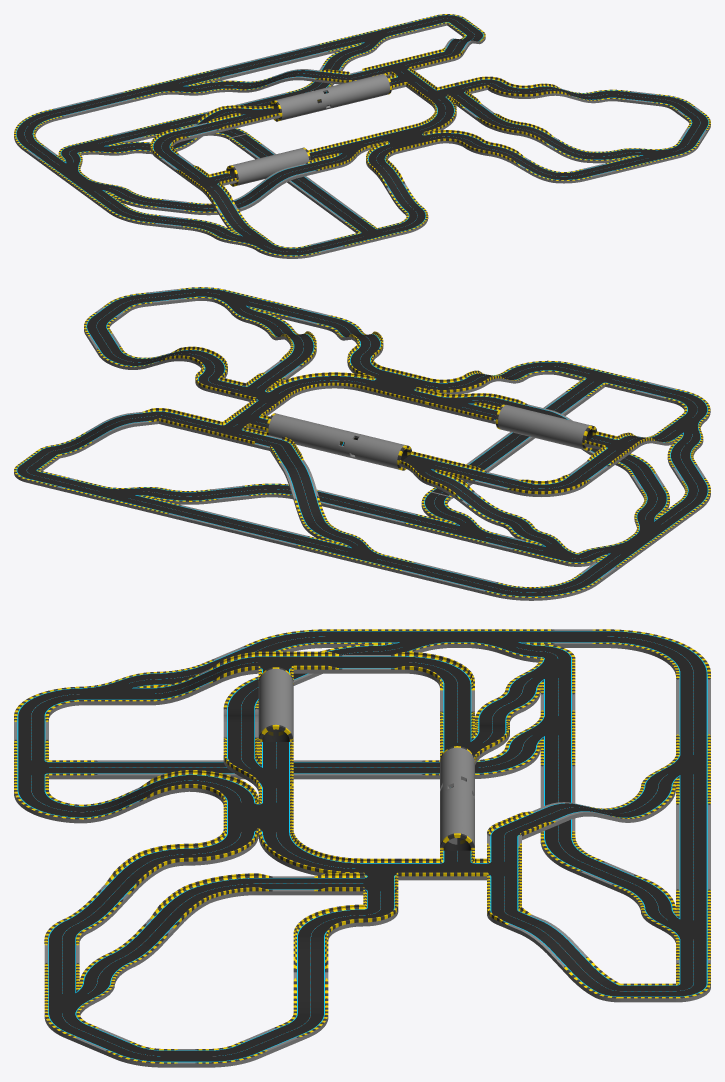
The model's file is GCU Track w Pipes Modular Shallow Bump.fbx.
3 views of the same model, one above another, from view 1: azimuth 30°, elevation 25°; view 2: azimuth 150°, elevation 25°; view 3: azimuth 270°, elevation 25° (orthographic). The views are drawn at different scales.
Parts seen in each view (by area): view 1: Wide Right Turn.026, Side Right Splt.007, Wide Right Turn.033, Side Right Splt.010, Side Right Splt.008, Side Left Splt.009, Side Right Splt.011, Side Left Splt.011, Side Left Splt.008, Side Right Splt.009, Right Turn.022, Side Left Splt.010 (+22 smaller); view 2: Wide Right Turn.026, Wide Right Turn.033, Side Right Splt.007, Side Left Splt.011, Side Right Splt.012, Side Right Splt.008, Side Right Splt.010, Side Right Splt.011, Side Left Splt.008, Side Left Splt.010, Side Right Splt.009, Side Left Splt.009 (+30 smaller); view 3: Side Right Splt.007, Wide Right Turn.026, Wide Right Turn.033, Side Left Splt.009, Side Right Splt.011, Side Left Splt.011, Side Left Splt.010, Side Left Splt.008, Side Right Splt.010, Side Right Splt.008, Side Right Splt.012, Right Turn.026 (+44 smaller).
Boxes of the visible parts, bbox=[...] form: Wide Right Turn.026: bbox=[14, 111, 56, 149]; Side Right Splt.007: bbox=[42, 154, 87, 185]; Wide Right Turn.033: bbox=[415, 97, 456, 133]; Side Right Splt.010: bbox=[150, 77, 207, 95]; Side Right Splt.008: bbox=[70, 137, 127, 155]; Side Left Splt.009: bbox=[215, 227, 271, 249]; Side Right Splt.011: bbox=[621, 149, 678, 167]; Side Left Splt.011: bbox=[345, 29, 391, 55]; Side Left Splt.008: bbox=[71, 179, 127, 200]; Side Right Splt.009: bbox=[223, 108, 280, 126]; Right Turn.022: bbox=[255, 243, 313, 258]; Side Left Splt.010: bbox=[322, 141, 368, 166]; Wide Right Turn.026: bbox=[493, 577, 597, 600]; Wide Right Turn.033: bbox=[270, 375, 371, 398]; Side Right Splt.007: bbox=[580, 534, 656, 566]; Side Left Splt.011: bbox=[93, 487, 161, 509]; Side Right Splt.012: bbox=[434, 513, 489, 544]; Side Right Splt.008: bbox=[520, 534, 576, 565]; Side Right Splt.010: bbox=[326, 535, 381, 566]; Side Right Splt.011: bbox=[214, 291, 269, 322]; Side Left Splt.008: bbox=[634, 510, 681, 541]; Side Left Splt.010: bbox=[427, 396, 495, 418]; Side Right Splt.009: bbox=[399, 454, 454, 485]; Side Left Splt.009: bbox=[658, 415, 703, 446]; Side Right Splt.007: bbox=[447, 631, 540, 662]; Wide Right Turn.026: bbox=[606, 631, 707, 674]; Wide Right Turn.033: bbox=[258, 832, 363, 875]; Side Left Splt.009: bbox=[84, 673, 153, 705]; Side Right Splt.011: bbox=[48, 983, 114, 1015]; Side Left Splt.011: bbox=[641, 910, 707, 942]; Side Left Splt.010: bbox=[223, 758, 289, 791]; Side Left Splt.008: bbox=[378, 631, 447, 654]; Side Right Splt.010: bbox=[644, 755, 707, 784]; Side Right Splt.008: bbox=[509, 659, 571, 688]; Side Right Splt.012: bbox=[509, 716, 571, 745]; Right Turn.026: bbox=[14, 790, 83, 823].
Size of the model in its own units: 1177 by 65 by 798.
